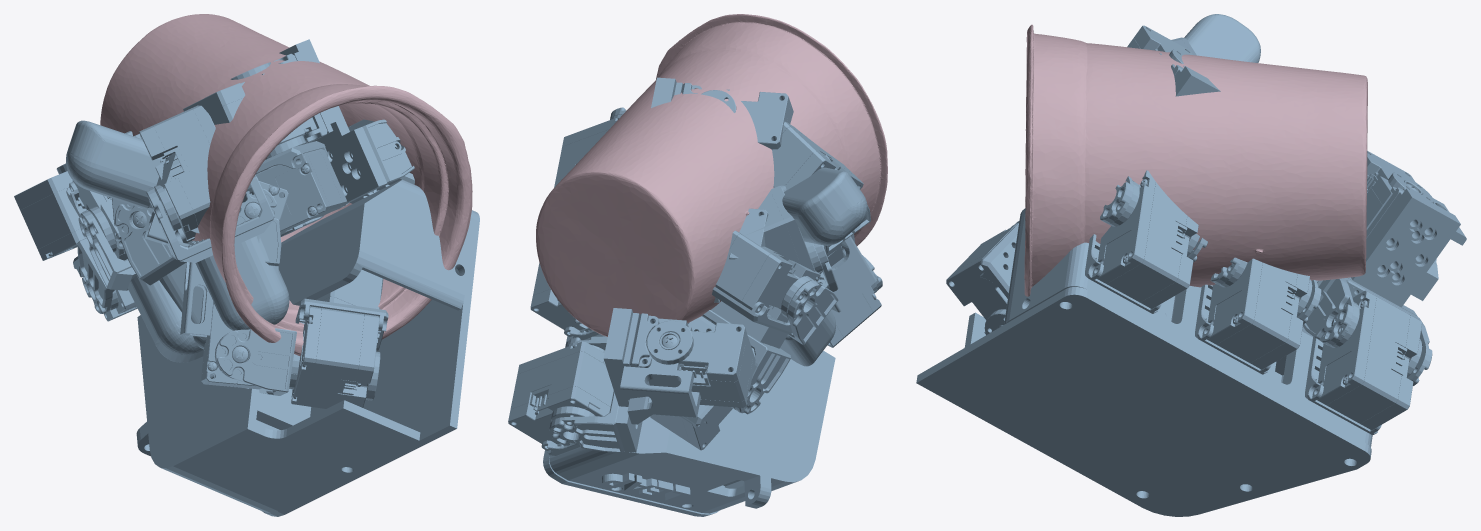
3 views of the same model, side by side, from view 1: azimuth 30°, elevation 25°; view 2: azimuth 150°, elevation 25°; view 3: azimuth 270°, elevation 25° (orthographic). The views are drawn at different scales.
Parts seen in each view (by area): view 1: world, obj_mesh_grasp_10.obj; view 2: world, obj_mesh_grasp_10.obj; view 3: world, obj_mesh_grasp_10.obj.
Boxes of the visible parts, x1=… form: world: x1=14, y1=39, x2=479, y2=516; obj_mesh_grasp_10.obj: x1=100, y1=14, x2=472, y2=355; world: x1=508, y1=77, x2=882, y2=516; obj_mesh_grasp_10.obj: x1=536, y1=14, x2=887, y2=336; world: x1=916, y1=14, x2=1466, y2=516; obj_mesh_grasp_10.obj: x1=1024, y1=24, x2=1367, y2=296.
Bounding box in the file's own units: 0.1325 × 0.1683 × 0.1737.
